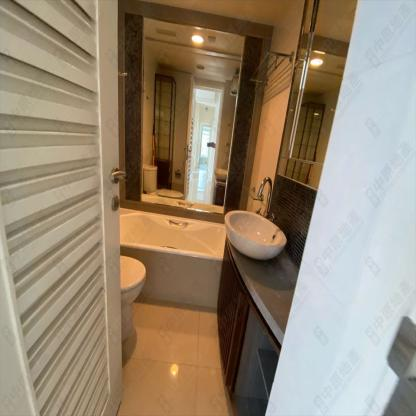Bathtub: (118, 206, 227, 306)
Faucet: (257, 174, 273, 209)
Toilet: (120, 254, 147, 342)
Toilet Sink: (223, 208, 287, 260)
